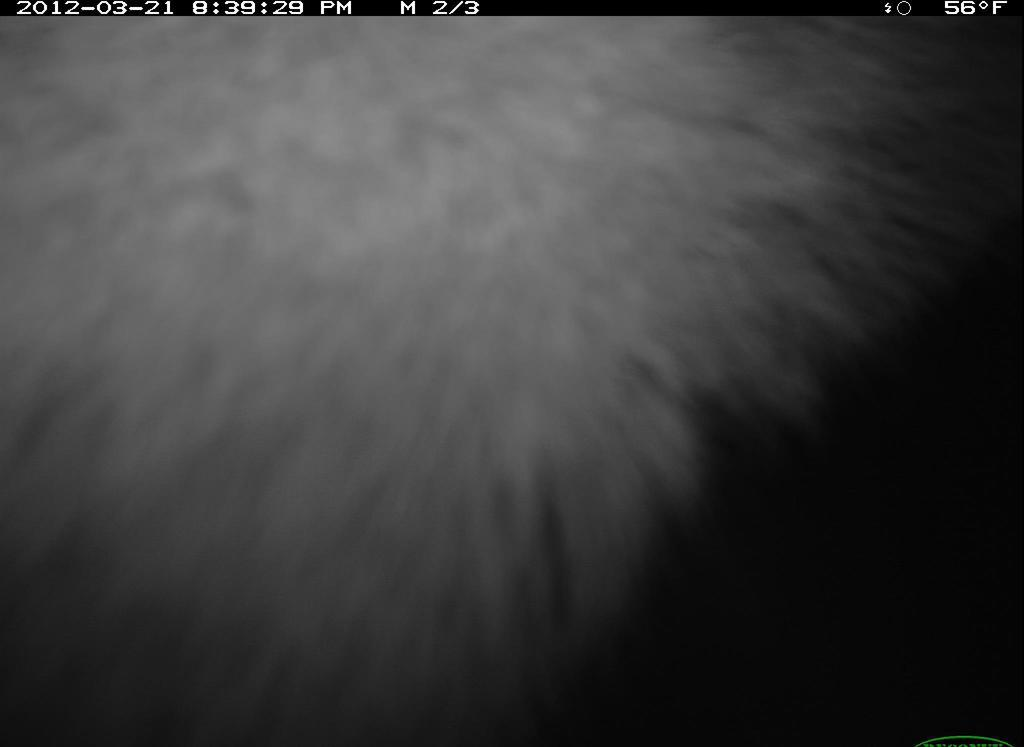coyote: (6, 9, 1010, 747)
